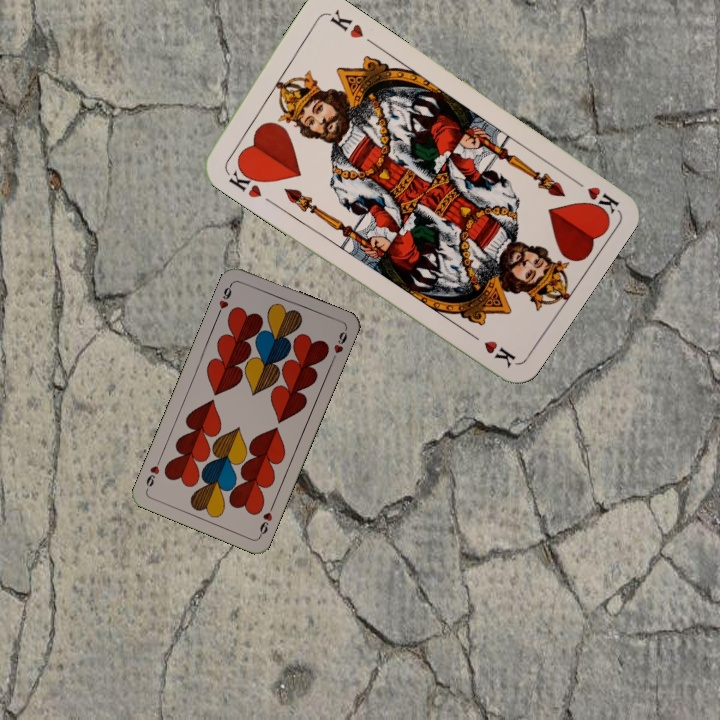H9: (255, 500, 276, 539), (214, 279, 235, 318)
HK: (566, 172, 621, 219), (221, 161, 268, 201)
